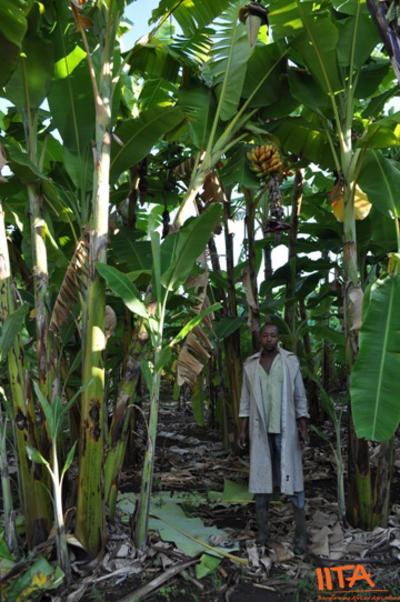bananaHand: (242, 137, 288, 181)
